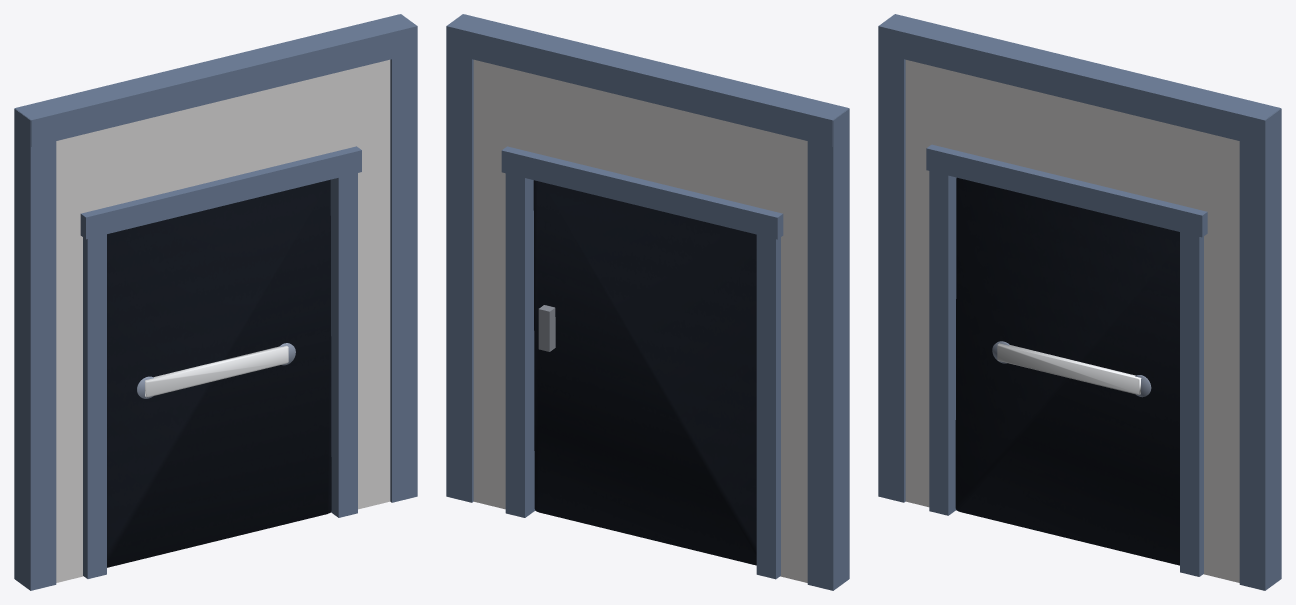
Rendered from 01_wall_emergency_door.glb.
The picture shows the model from 3 angles, left to right: view 1: azimuth 30°, elevation 25°; view 2: azimuth 150°, elevation 25°; view 3: azimuth 330°, elevation 25°; orthographic projection.
Visible parts, largest first — view 1: DoorPivot.001, Wall_Header, part_11, part_10, Wall_Right, Wall_Left, part_12, part_5.001, part_5.002, part_6.001, Pushbar; view 2: DoorPivot.001, Wall_Header, part_11, part_10, Wall_Right, Wall_Left, part_12, part_5.001, part_5.002, part_6.001, DoorHandle; view 3: DoorPivot.001, Wall_Header, part_12, part_10, Wall_Right, Wall_Left, part_11, part_5.002, part_5.001, part_6.001, Pushbar.
Part boxes in pixels (<box>): DoorPivot.001: <box>107,179,331,567</box>; Wall_Header: <box>99,69,352,208</box>; part_11: <box>14,108,56,590</box>; part_10: <box>15,14,417,146</box>; Wall_Right: <box>352,59,390,509</box>; Wall_Left: <box>56,130,99,582</box>; part_12: <box>390,14,417,502</box>; part_5.001: <box>330,173,357,517</box>; part_5.002: <box>83,234,106,578</box>; part_6.001: <box>80,146,361,239</box>; Pushbar: <box>145,346,288,397</box>; DoorPivot.001: <box>533,180,756,565</box>; Wall_Header: <box>511,69,764,208</box>; part_11: <box>807,108,849,590</box>; part_10: <box>446,14,848,146</box>; Wall_Right: <box>473,59,511,509</box>; Wall_Left: <box>764,130,807,582</box>; part_12: <box>446,14,473,502</box>; part_5.001: <box>505,173,535,517</box>; part_5.002: <box>756,234,780,579</box>; part_6.001: <box>501,146,783,239</box>; DoorHandle: <box>538,305,555,351</box>; DoorPivot.001: <box>955,177,1179,565</box>; Wall_Header: <box>950,71,1203,210</box>; part_12: <box>1239,108,1281,590</box>; part_10: <box>878,14,1280,146</box>; Wall_Right: <box>1203,132,1239,582</box>; Wall_Left: <box>905,60,950,507</box>; part_11: <box>878,14,905,502</box>; part_5.002: <box>929,171,956,515</box>; part_5.001: <box>1180,232,1203,576</box>; part_6.001: <box>926,144,1207,237</box>; Pushbar: <box>997,343,1141,394</box>.
Size of the model in its own units: 2.57 by 2.99 by 0.276.
14 materials, 2 textured.
